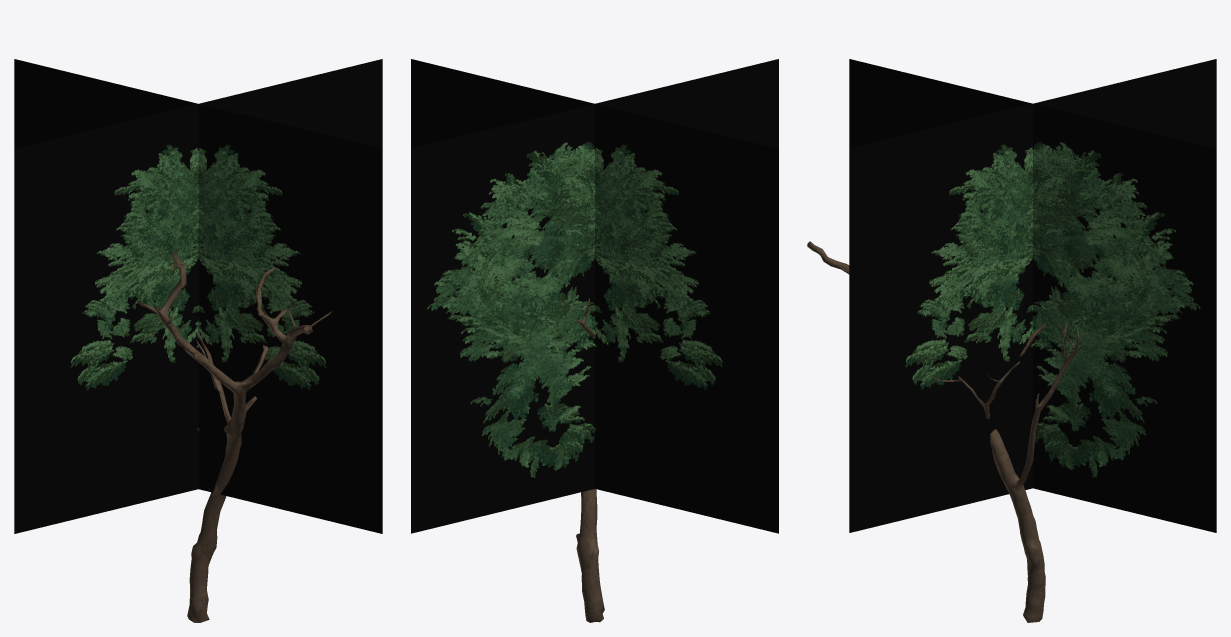
File: field_broadleaf_a_lod1.glb
3 views of the same model, side by side, from view 1: azimuth 30°, elevation 25°; view 2: azimuth 150°, elevation 25°; view 3: azimuth 270°, elevation 25° (orthographic).
Parts seen in each view (by area): view 1: foliage_lod1, bark_lod1; view 2: foliage_lod1, bark_lod1; view 3: foliage_lod1, bark_lod1.
Boxes of the visible parts, <box> form: foliage_lod1: <box>14,59,382,533</box>; bark_lod1: <box>134,251,331,622</box>; foliage_lod1: <box>411,59,778,533</box>; bark_lod1: <box>571,298,604,622</box>; foliage_lod1: <box>849,59,1216,532</box>; bark_lod1: <box>807,241,1079,622</box>.
Bounding box in the file's own units: 3.6 × 4.82 × 3.47.
Materials: 2 (2 with a texture image).
